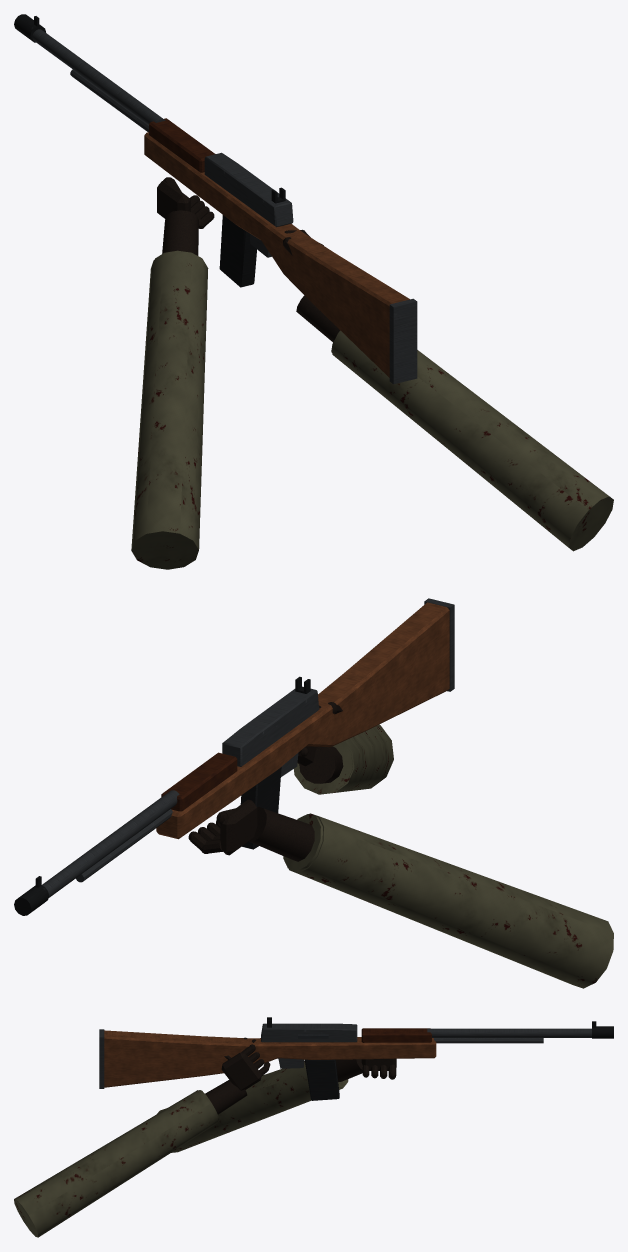
3 views of the same model, one above another, from view 1: azimuth 30°, elevation 25°; view 2: azimuth 150°, elevation 25°; view 3: azimuth 270°, elevation 25° (orthographic). The views are drawn at different scales.
Visible parts, largest first — view 1: Body, ArmL, Mag; view 2: Body, ArmL, Mag; view 3: Body, ArmL, Mag.
Part boxes in pixels (<box>): Body: <box>14,14,613,551</box>; ArmL: <box>131,177,214,569</box>; Mag: <box>219,215,256,287</box>; Body: <box>14,598,454,915</box>; ArmL: <box>188,799,613,988</box>; Mag: <box>240,767,281,849</box>; Body: <box>14,1017,613,1237</box>; ArmL: <box>157,1058,396,1152</box>; Mag: <box>304,1059,339,1100</box>.
Size of the model in its own units: 0.6583 by 0.4825 by 1.37.
Materials: 7 (7 with a texture image).
